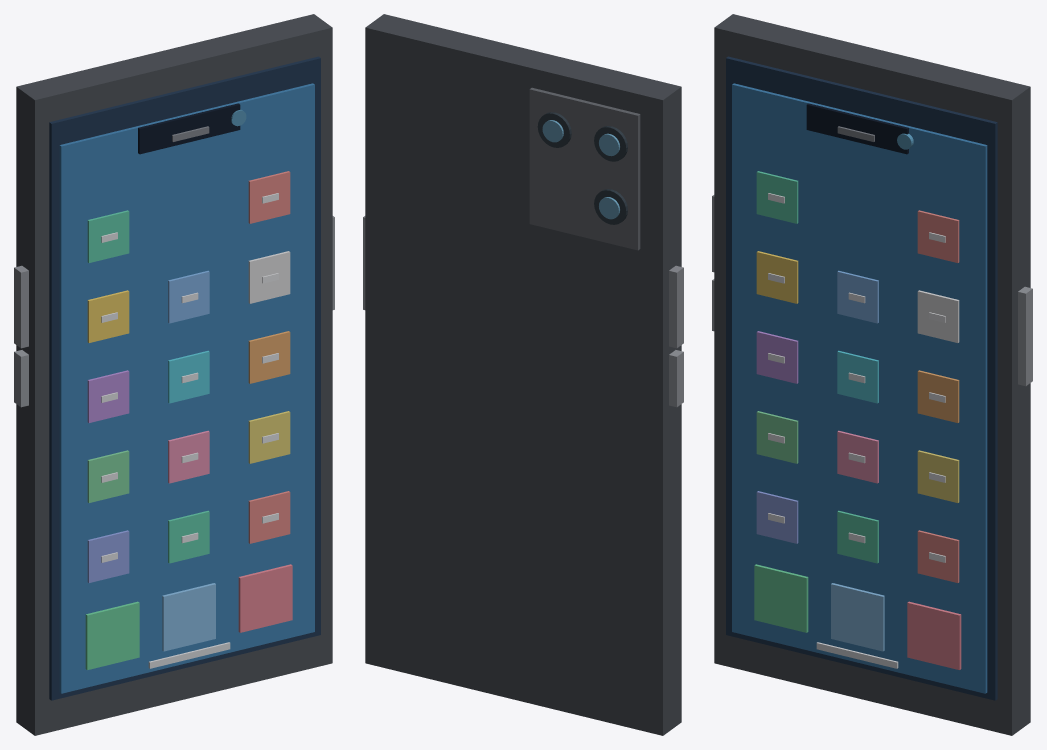
File: smartphone_3d_model.glb
3 renders of one model, left to right at view 1: azimuth 30°, elevation 25°; view 2: azimuth 150°, elevation 25°; view 3: azimuth 330°, elevation 25°, orthographic.
Parts seen in each view (by area): view 1: display, phone_body, front_glass, dock_2, dock_0, dock_1, top_notch, app_icon_8, app_icon_11, app_icon_0, app_icon_2, app_icon_5 (+12 smaller); view 2: phone_body, rear_camera_plate, side_button_left, volume_up, rear_lens_1, rear_lens_2, rear_lens_0; view 3: display, phone_body, front_glass, dock_0, dock_2, dock_1, top_notch, app_icon_10, app_icon_13, app_icon_1, app_icon_4, app_icon_7 (+11 smaller).
Part boxes in pixels (x1,y1,x2,y2): display: [59, 83, 314, 693]; phone_body: [16, 14, 332, 735]; front_glass: [49, 56, 320, 700]; dock_2: [238, 564, 292, 632]; dock_0: [85, 601, 139, 669]; dock_1: [162, 583, 215, 651]; top_notch: [138, 103, 240, 154]; app_icon_8: [87, 450, 129, 502]; app_icon_11: [87, 530, 129, 582]; app_icon_0: [87, 210, 129, 262]; app_icon_2: [87, 290, 129, 342]; app_icon_5: [87, 370, 129, 422]; phone_body: [365, 14, 681, 735]; rear_camera_plate: [529, 87, 640, 250]; side_button_left: [669, 265, 683, 348]; volume_up: [669, 350, 683, 407]; rear_lens_1: [537, 112, 571, 147]; rear_lens_2: [594, 189, 627, 224]; rear_lens_0: [594, 126, 627, 161]; display: [732, 83, 987, 693]; phone_body: [714, 14, 1030, 735]; front_glass: [726, 56, 997, 700]; dock_0: [754, 564, 808, 632]; dock_2: [907, 601, 961, 669]; dock_1: [831, 583, 884, 651]; top_notch: [806, 103, 908, 154]; app_icon_10: [917, 450, 959, 502]; app_icon_13: [917, 530, 959, 582]; app_icon_1: [917, 210, 959, 262]; app_icon_4: [917, 290, 959, 342]; app_icon_7: [917, 370, 959, 422].
Size of the model in its own units: 0.078 by 0.151 by 0.0137.
